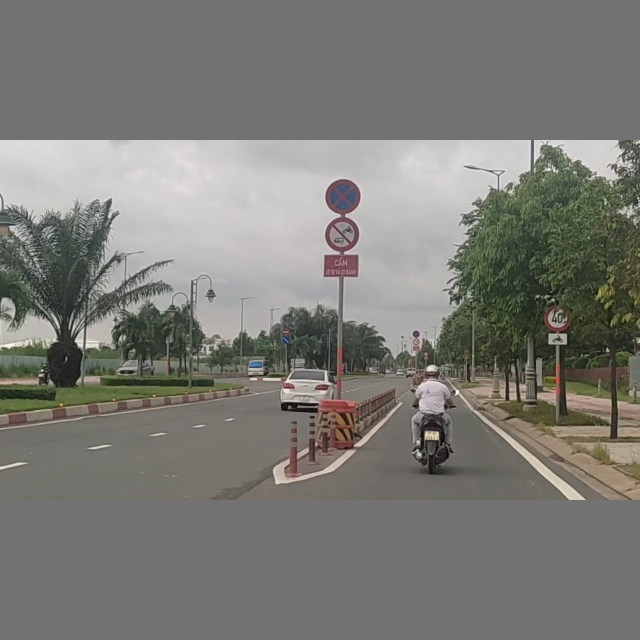P.111: (322, 215, 360, 255)
P.127*40: (545, 303, 572, 331)
P.130: (325, 177, 363, 216)
S.505a*Xe may: (544, 329, 569, 347)
